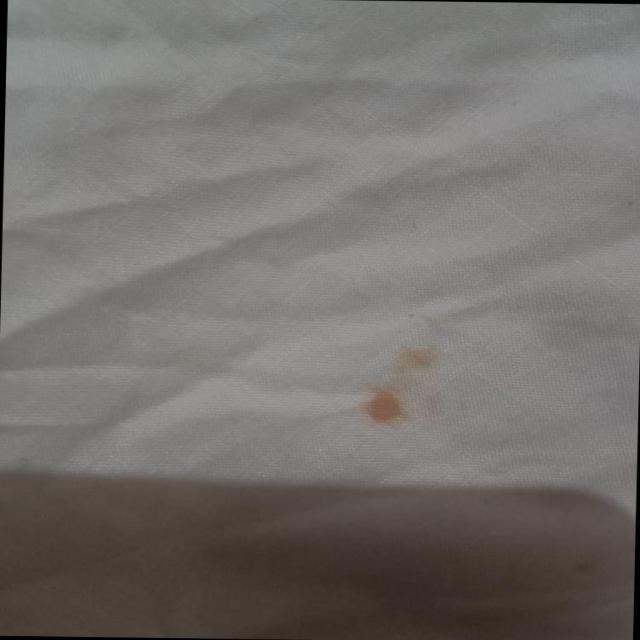stain: (351, 332, 464, 438)
